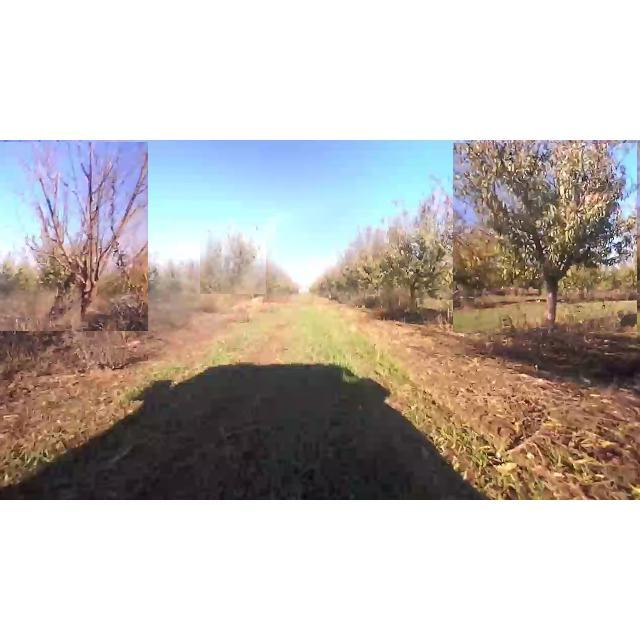tree: (453, 143, 637, 333), (0, 142, 148, 330), (384, 191, 471, 321), (200, 230, 266, 294)
